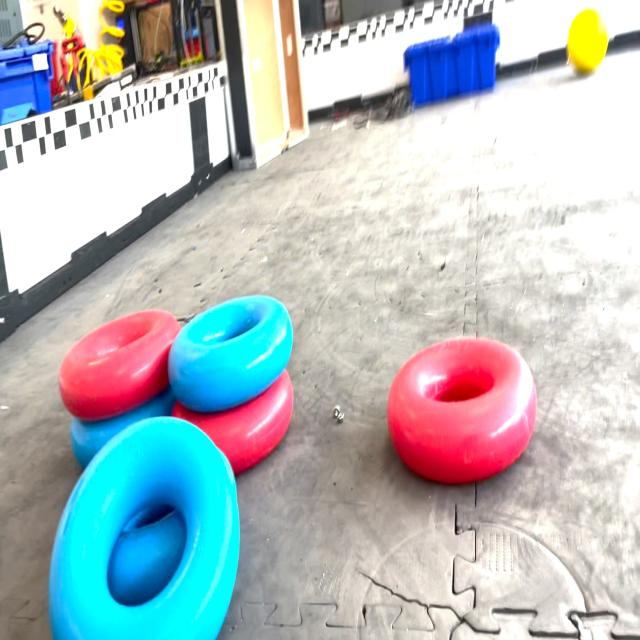Blue-Ring: (49, 418, 240, 638), (168, 296, 292, 412)
Red-Ring: (388, 338, 538, 482), (59, 309, 180, 420), (172, 369, 294, 473)
